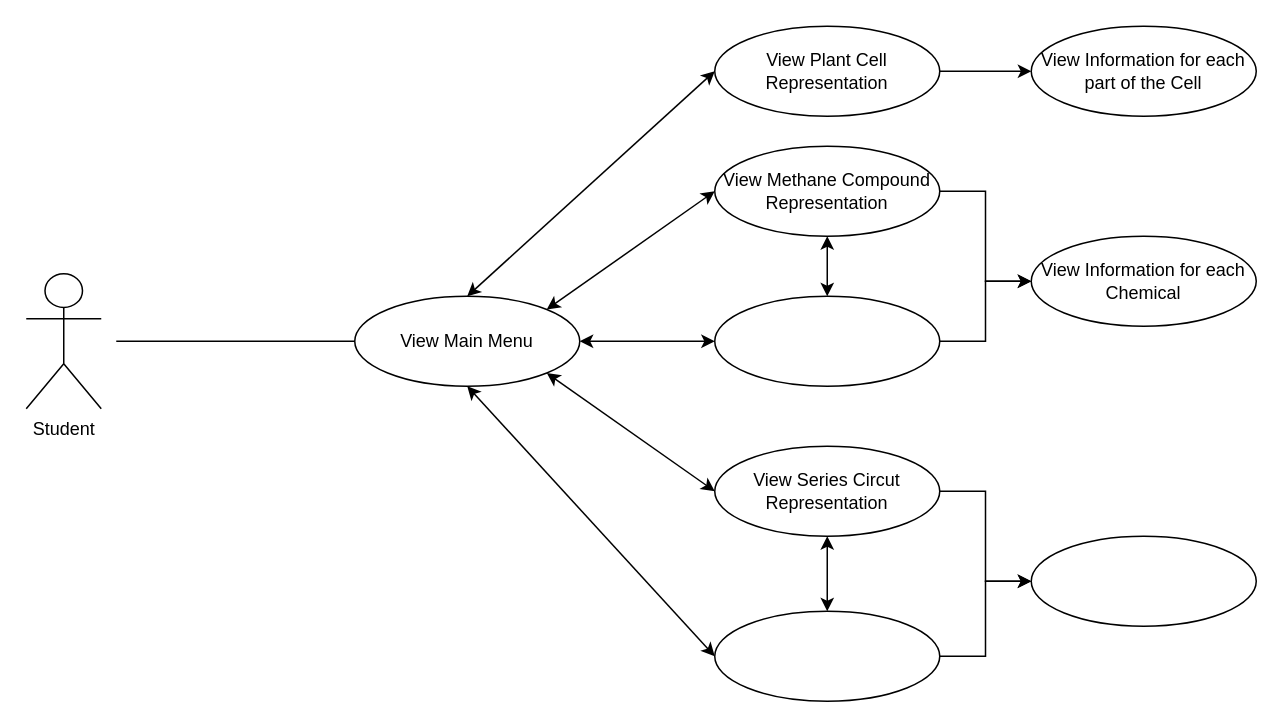
The diagram is 1283 pixels wide and 728 high, and some of its shapes have lost their labels. Here are the shapes that lost their labels. From the top down, the box of each, then its label:
(713, 295, 940, 386): View Hydrogen Peroxide Representation
(1030, 535, 1256, 626): Toggle the Power State of the Circuit
(713, 610, 940, 701): View Parallel Circut Representation
